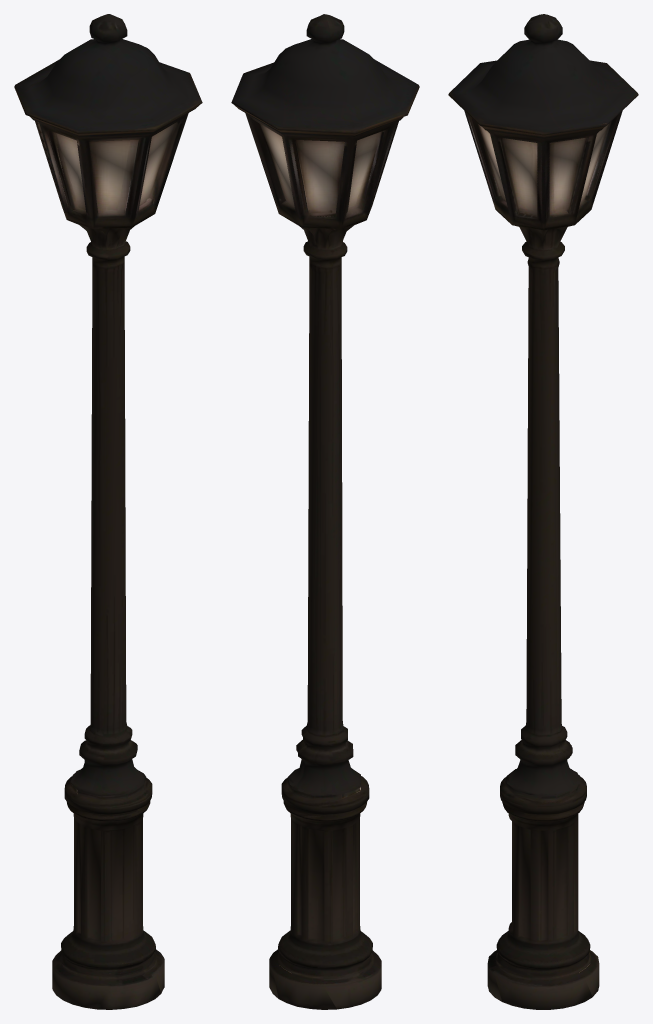
Rendered from Urban__a_streetlight_pole_cdf0134a_v1.cluster.glb.
3 views of the same model, side by side, from view 1: azimuth 30°, elevation 25°; view 2: azimuth 150°, elevation 25°; view 3: azimuth 270°, elevation 25° (orthographic).
Parts seen in each view (by area): view 1: material; view 2: material; view 3: material.
Part boxes in pixels (x1,y1,x2,y2): material: [14, 14, 202, 1009]; material: [231, 14, 419, 1009]; material: [448, 14, 638, 1009].
Bounding box in the file's own units: 0.3378 × 1.9 × 0.3378.
1 material, 1 textured.
